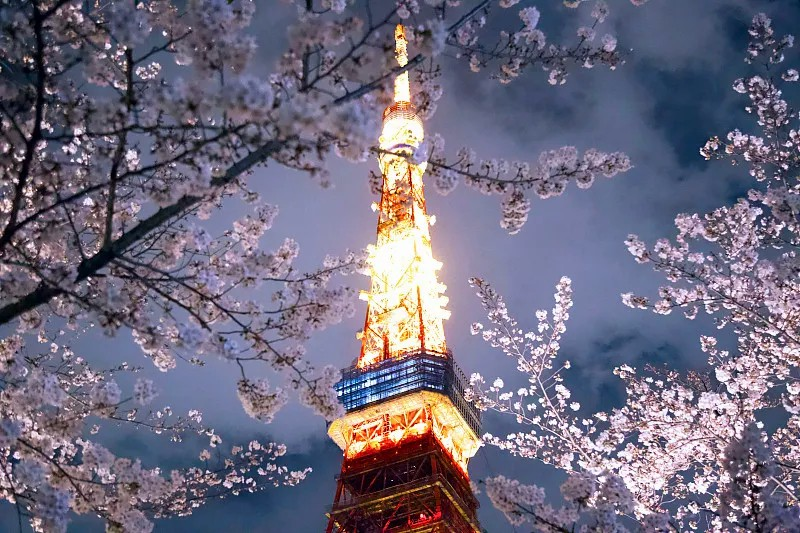Tokyo: (325, 26, 485, 533)
